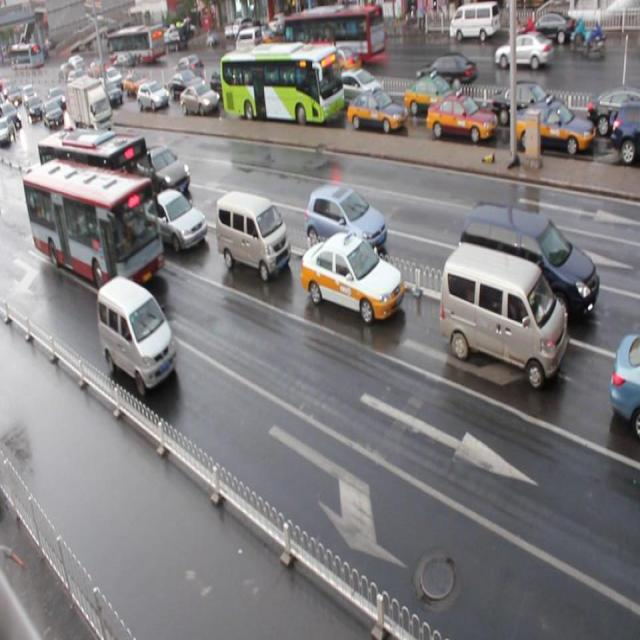bus: (68, 74, 114, 142)
car: (299, 229, 403, 321), (303, 183, 387, 260), (514, 99, 594, 159), (138, 187, 206, 252), (425, 92, 497, 144), (492, 82, 568, 128), (608, 330, 640, 434), (137, 144, 192, 199), (345, 87, 406, 133), (403, 74, 465, 118), (586, 89, 640, 136), (332, 64, 385, 107), (609, 99, 640, 161), (22, 159, 60, 204), (179, 80, 220, 116), (210, 69, 243, 103), (137, 81, 170, 111), (167, 73, 202, 99), (99, 81, 122, 109), (125, 70, 150, 95)
truck: (438, 240, 567, 388), (457, 200, 597, 334), (97, 274, 178, 398), (214, 187, 289, 281)
van: (23, 159, 166, 301), (37, 126, 154, 235), (216, 42, 339, 125)
